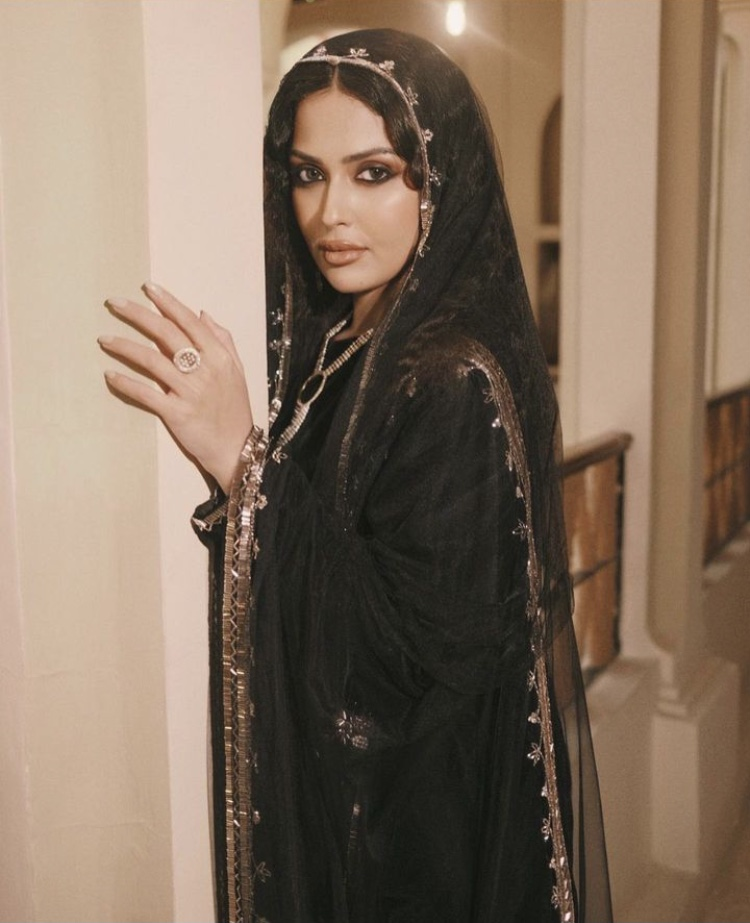Saudi_Founding_Day: (97, 27, 615, 923)
